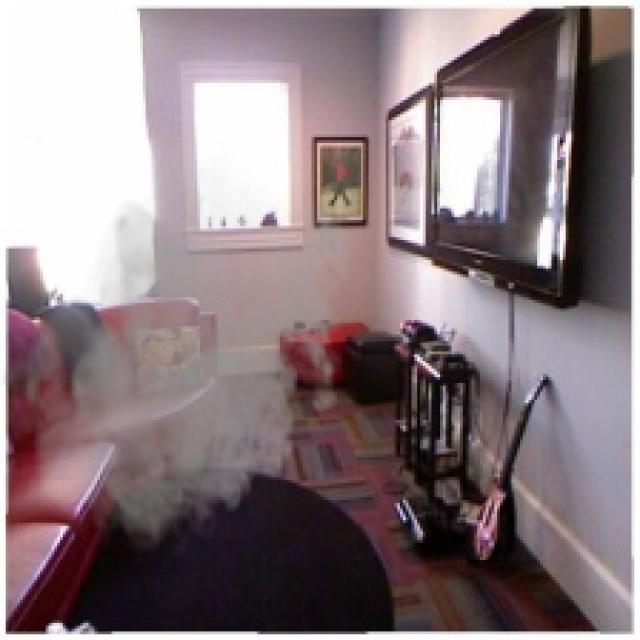smoke: (0, 143, 360, 566)
